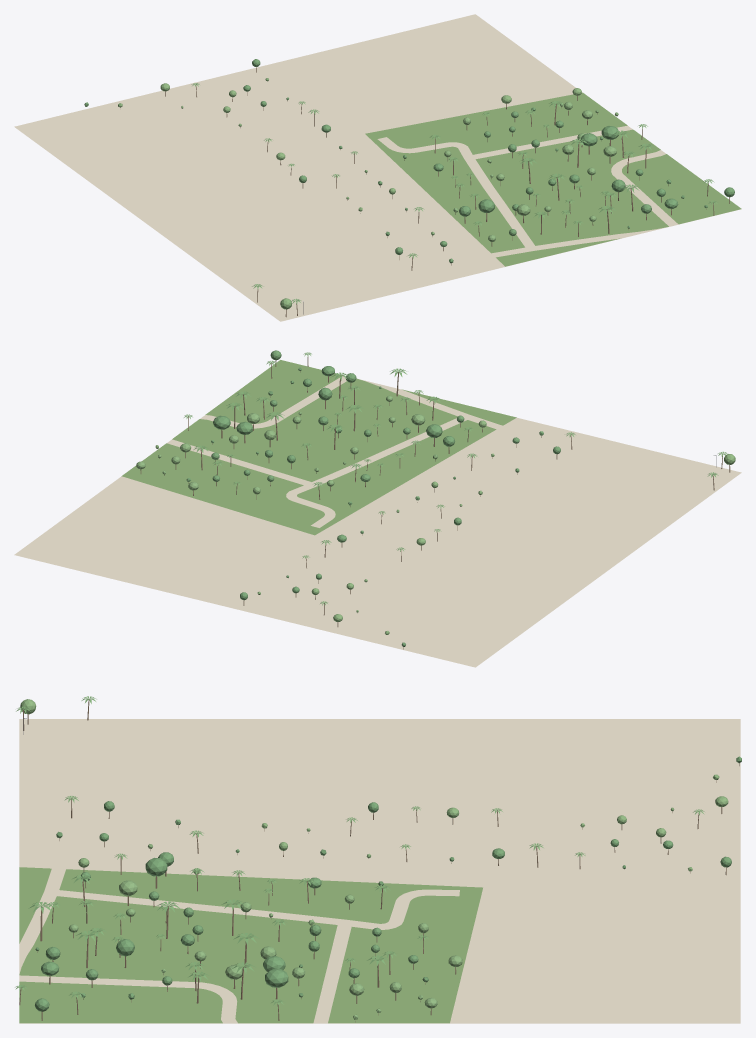
Rendered from nature_-1_-3.glb.
3 views of the same model, one above another, from view 1: azimuth 30°, elevation 25°; view 2: azimuth 150°, elevation 25°; view 3: azimuth 270°, elevation 25° (orthographic). The views are drawn at different scales.
Visible parts, largest first — view 1: ground, grass, foliage_a, foliage_b, palm_leaf, trunk; view 2: ground, grass, foliage_a, foliage_b, palm_leaf, trunk; view 3: ground, grass, foliage_a, foliage_b, palm_leaf, trunk.
Boxes of the visible parts, x1,y1,x2,y2 form: ground: (14, 14, 741, 321); grass: (365, 92, 741, 266); foliage_a: (84, 59, 734, 263); foliage_b: (118, 78, 618, 309); palm_leaf: (191, 83, 717, 303); trunk: (165, 67, 729, 317); ground: (14, 375, 741, 667); grass: (121, 360, 516, 535); foliage_a: (186, 350, 560, 646); foliage_b: (136, 395, 735, 634); palm_leaf: (184, 352, 727, 605); trunk: (140, 356, 730, 649); ground: (19, 719, 740, 1023); grass: (19, 867, 482, 1023); foliage_a: (35, 756, 741, 1011); foliage_b: (20, 699, 728, 1019); palm_leaf: (15, 696, 704, 1005); trunk: (19, 699, 739, 1022).
Bounding box in the file's own units: 252 × 13.6 × 252.
